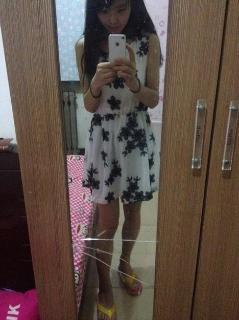vest: (80, 31, 165, 204)
